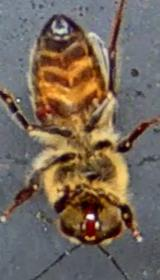varroa_mite: (26, 91, 64, 124)
